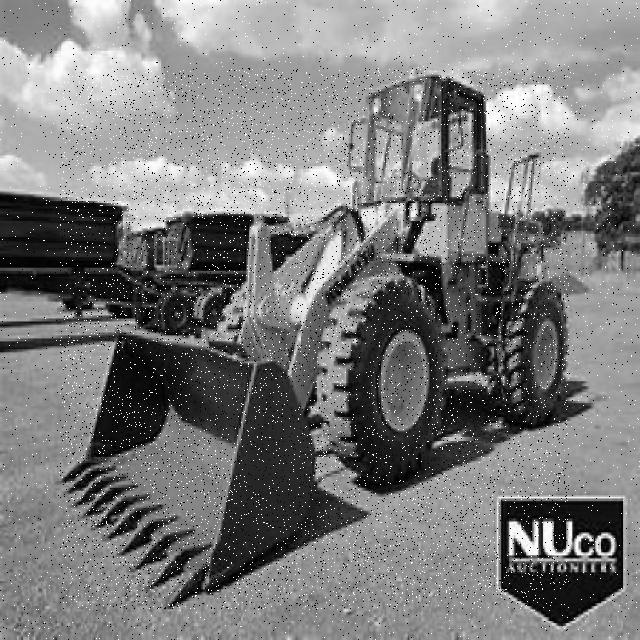Construction Equipment: (60, 69, 569, 609)
